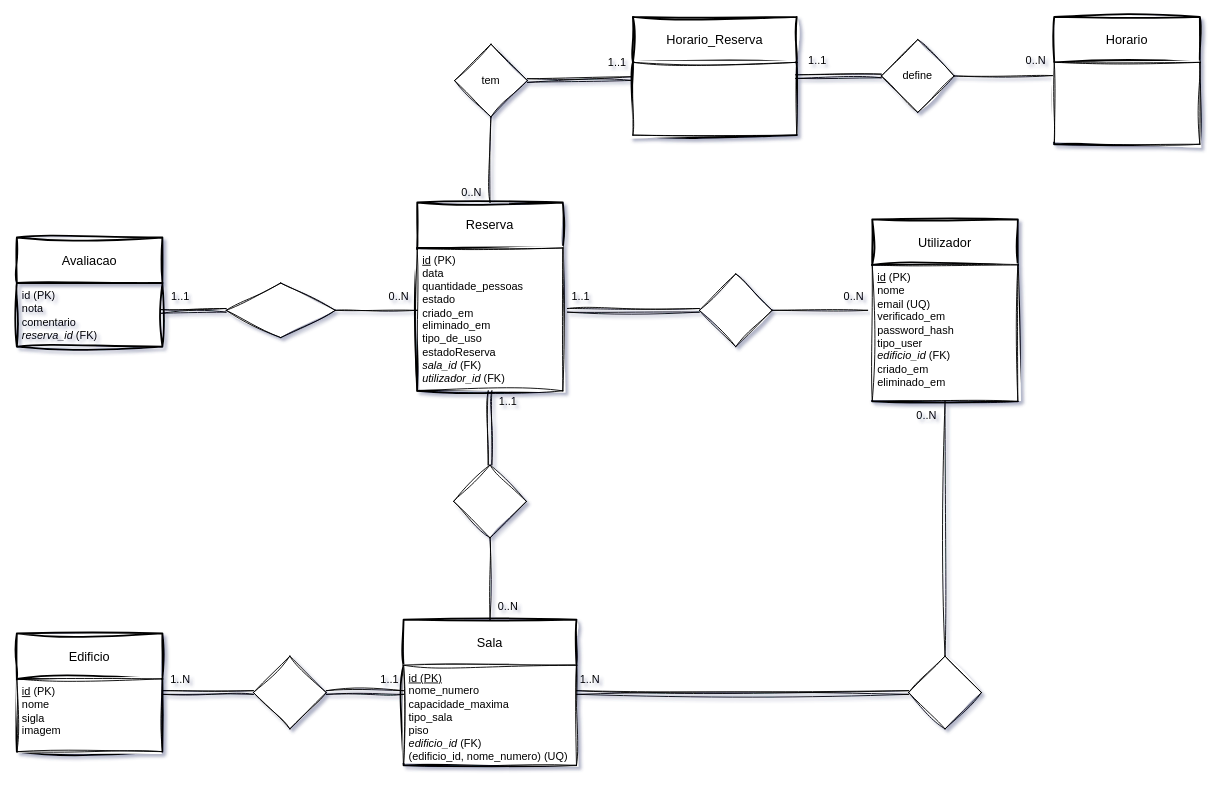
The diagram is 1221 pixels wide and 787 high, and some of its shapes have lost their labels. Here are the shapes that lost their labels. From the top down, the centre of each, then its label:
At (x=714, y=98): "id (PK) reserva_id (FK) horario_id (FK) (reserva_id, horario_id,) (UQ)".
At (x=1126, y=102): "id (PK) hora_inicio hora_fim (hora_inicio, hora_fim) (UQ)".
At (x=280, y=310): "feita".
At (x=735, y=310): "realiza".
At (x=489, y=501): "recebe".
At (x=289, y=692): "possui".
At (x=944, y=692): "administra".
